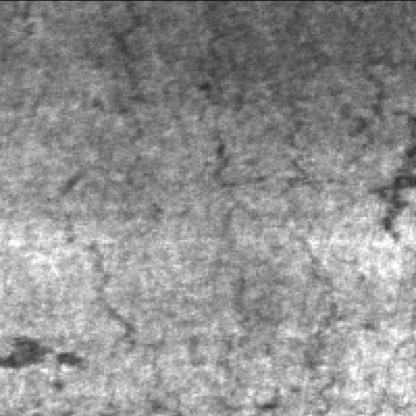crazing: (204, 108, 339, 416), (116, 4, 404, 108), (94, 258, 243, 416)
